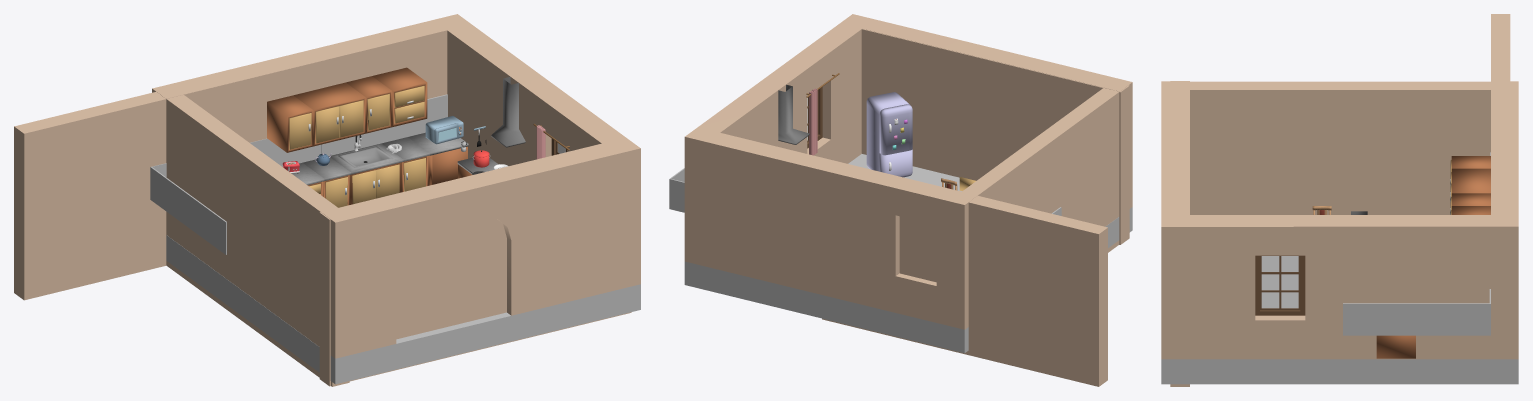
The model's file is Cartoon Kitchen Interior.dae.
The picture shows the model from 3 angles, left to right: view 1: azimuth 30°, elevation 25°; view 2: azimuth 150°, elevation 25°; view 3: azimuth 270°, elevation 25°; orthographic projection. The views are drawn at different scales.
Visible parts, largest first — view 1: Wall#1, Cube.002, Cube, Cube.001, Floor, Tile.001, Sink, Tile, 1Door.Upper.L.001, Corner, 2Door.Upper, ExtractorHood (+10 smaller); view 2: Wall#1, Cube.002, Cube.001, Cube, Floor, Fridge.Door.U, Fridge, ExtractorHood, Fridge.Door.L, Tile, Curtain#1.1; view 3: Wall#1, Cube, Floor, Tile, Window#1.Glass, Cube.002, 2Door.Upper, 2Door, Window#1, Window#1.Wood, 1Door.Upper.L.001, 1Door.Upper (+1 smaller).
Part boxes in pixels (<box>): Wall#1: <box>152,14,640,358</box>; Cube.002: <box>14,60,326,300</box>; Cube: <box>166,95,349,386</box>; Cube.001: <box>319,143,631,386</box>; Floor: <box>166,235,640,384</box>; Tile.001: <box>150,138,321,254</box>; Sink: <box>329,135,403,204</box>; Tile: <box>321,94,447,156</box>; 1Door.Upper.L.001: <box>267,95,313,152</box>; Corner: <box>408,132,468,185</box>; 2Door.Upper: <box>293,82,365,146</box>; ExtractorHood: <box>491,76,525,147</box>; Wall#1: <box>684,14,1132,329</box>; Cube.002: <box>822,196,1107,386</box>; Cube.001: <box>852,18,1129,244</box>; Cube: <box>962,88,1119,252</box>; Floor: <box>684,154,1132,353</box>; Fridge.Door.U: <box>879,104,912,155</box>; Fridge: <box>866,92,909,171</box>; ExtractorHood: <box>778,84,809,144</box>; Fridge.Door.L: <box>879,149,912,177</box>; Tile: <box>669,168,684,212</box>; Curtain#1.1: <box>809,88,817,155</box>; Wall#1: <box>1161,81,1518,359</box>; Cube: <box>1189,81,1490,214</box>; Floor: <box>1161,359,1518,384</box>; Tile: <box>1343,289,1490,335</box>; Window#1.Glass: <box>1261,256,1298,308</box>; Cube.002: <box>1491,14,1510,81</box>; 2Door.Upper: <box>1451,168,1490,193</box>; 2Door: <box>1376,335,1415,358</box>; Window#1: <box>1255,255,1305,315</box>; Window#1.Wood: <box>1260,255,1300,310</box>; 1Door.Upper.L.001: <box>1451,156,1490,168</box>; 1Door.Upper: <box>1451,193,1490,205</box>.
Size of the model in its own units: 12.16 by 8.06 by 4.05.
